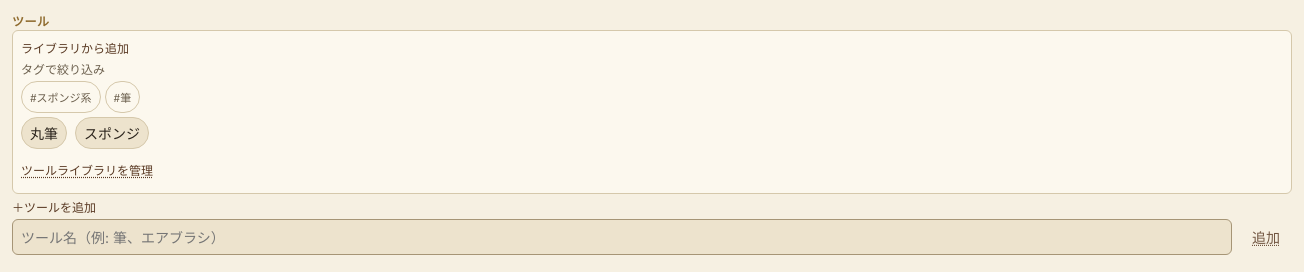
Test: ToolSelect › タグチップの単一選択トグルで絞り込み、再クリックで解除できる
Check: the button "丸筆" is shown, box [21,117,67,149]
Click the button "#筆" at (122, 97), box [105,81,140,113]
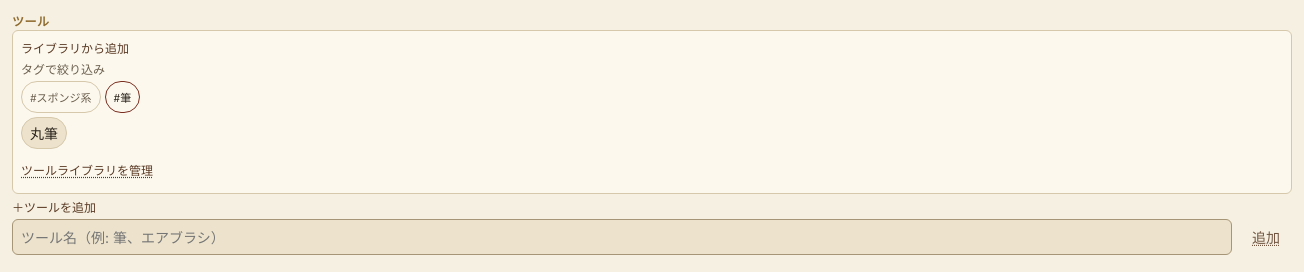
Check: the button "丸筆" is shown, box [21,117,67,149]
Click the button "#筆" at (122, 97), box [105,81,140,113]
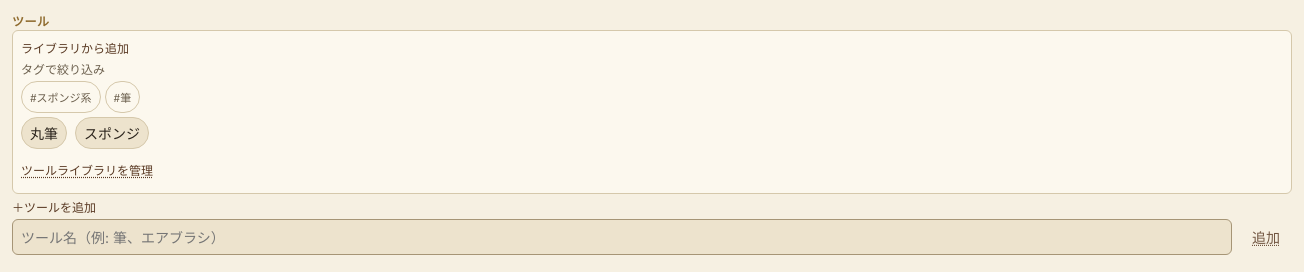
Check: the button "スポンジ" is shown, box [75,117,149,149]
